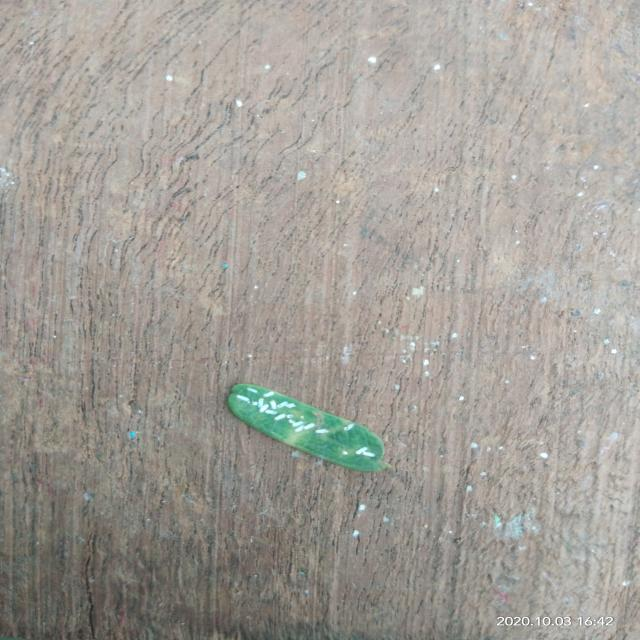defectedtamarind: (237, 388, 295, 421)
tamarind: (228, 384, 390, 471)
